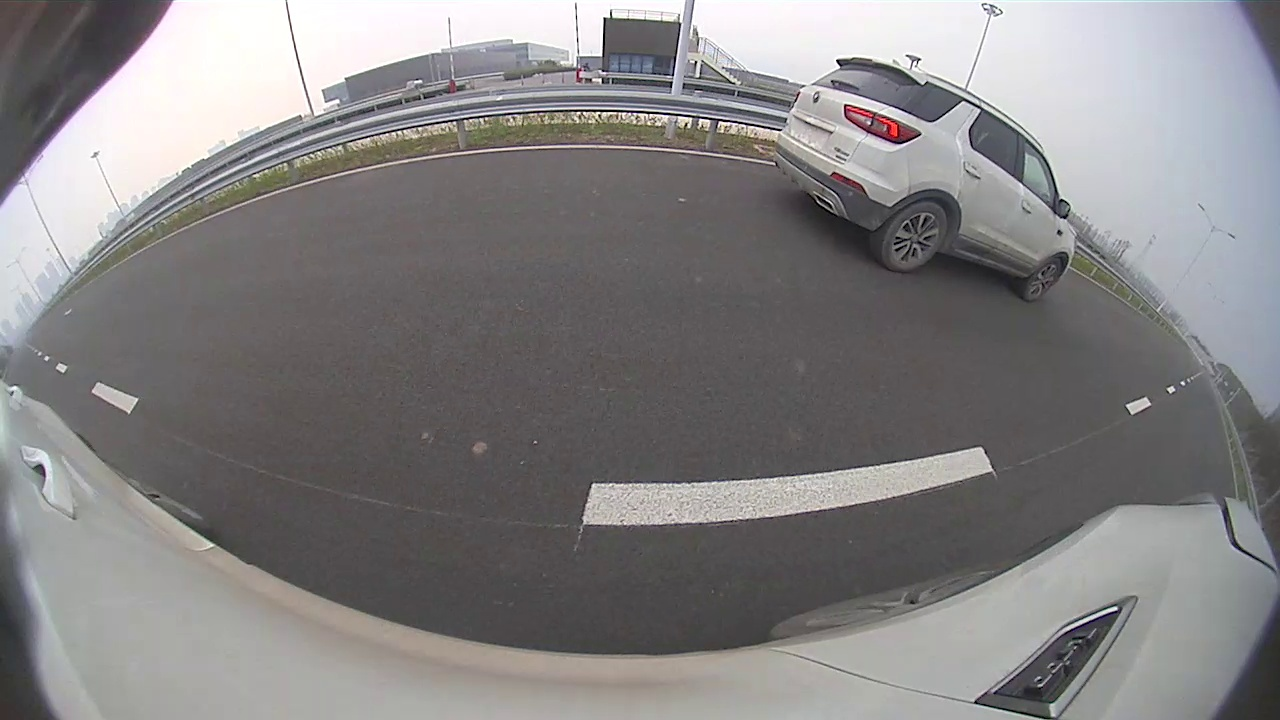car: (773, 57, 1076, 302)
front: (1022, 258, 1062, 302)
rear: (881, 201, 950, 272)
